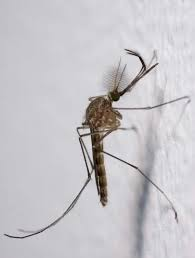mosquito: (43, 42, 193, 232)
